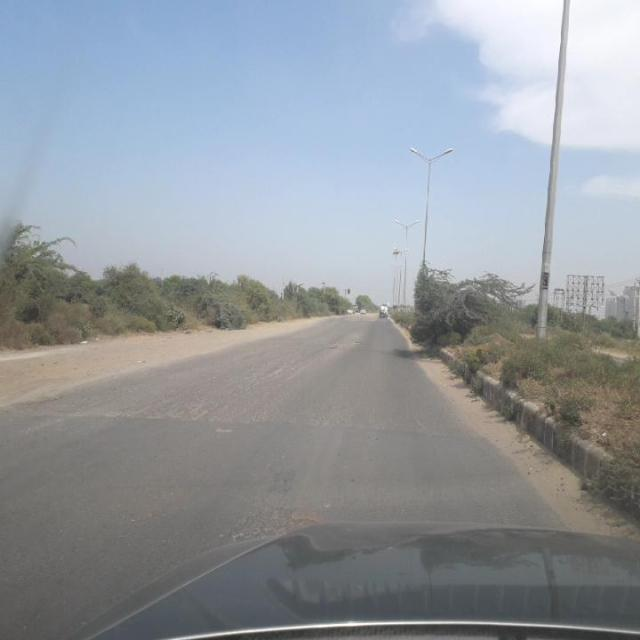D20: (52, 358, 308, 414)
